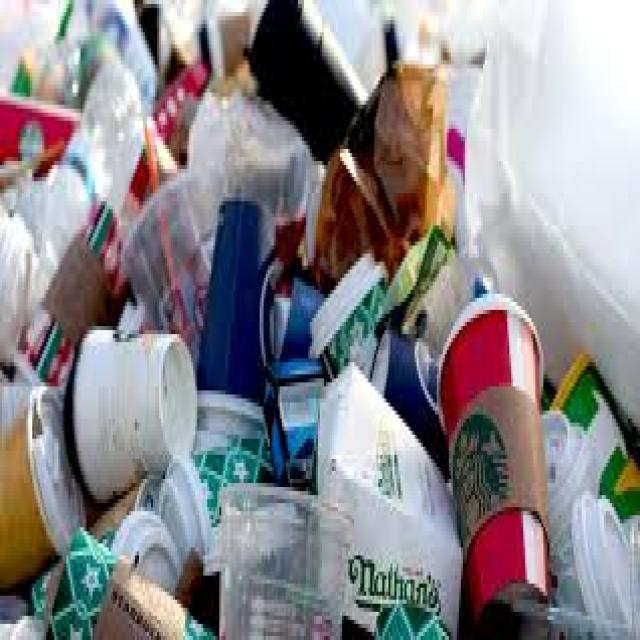paper: (298, 64, 475, 274), (318, 374, 433, 620)
plastic: (434, 306, 562, 608), (115, 137, 205, 334), (2, 394, 89, 576), (213, 197, 270, 435)
